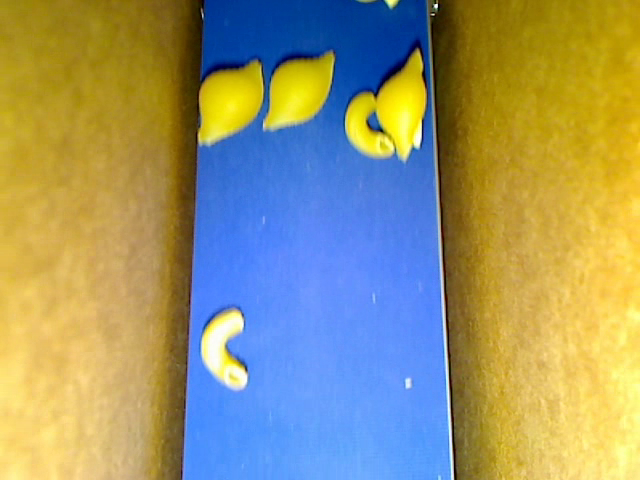elbow: (199, 306, 248, 390), (345, 92, 393, 157)
shell: (376, 48, 426, 162), (261, 51, 334, 129), (197, 60, 263, 146)
